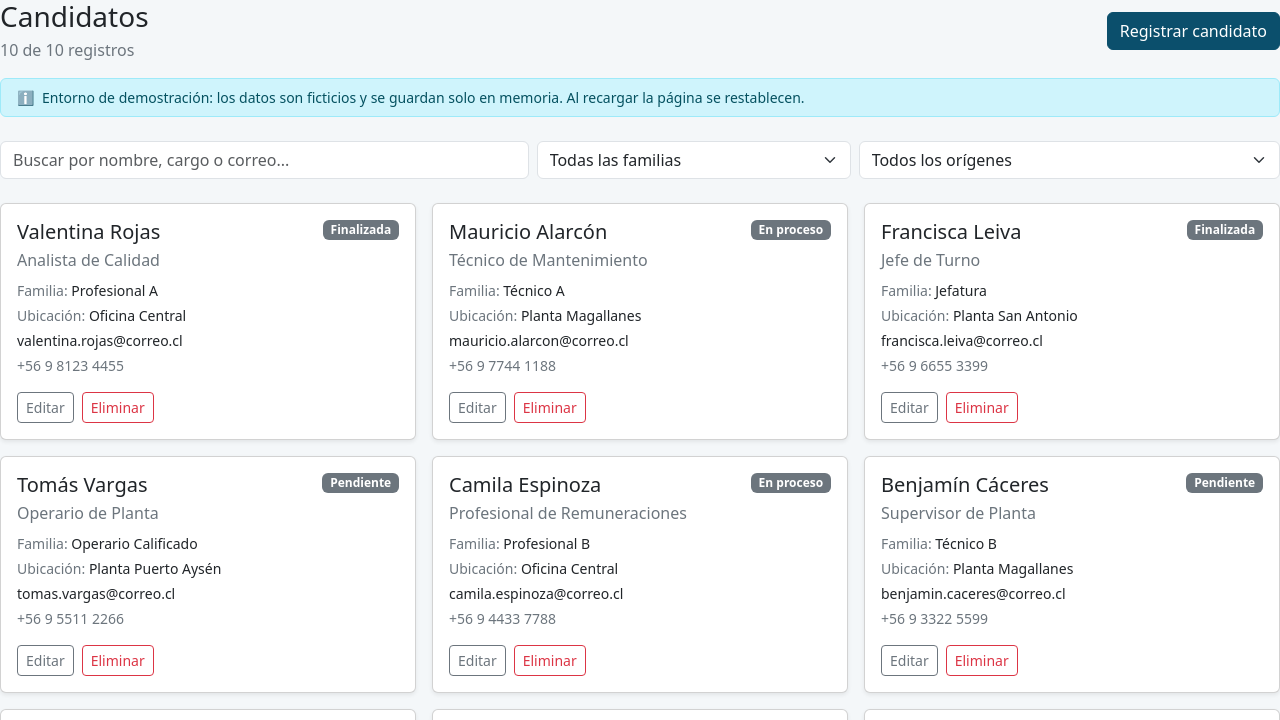
Test: CandidatosPage › filtra por origen
Select "Interno" in the 2nd dropdown named "origen" at [1069, 160], box top-left (859, 141), bottom-right (1279, 179)
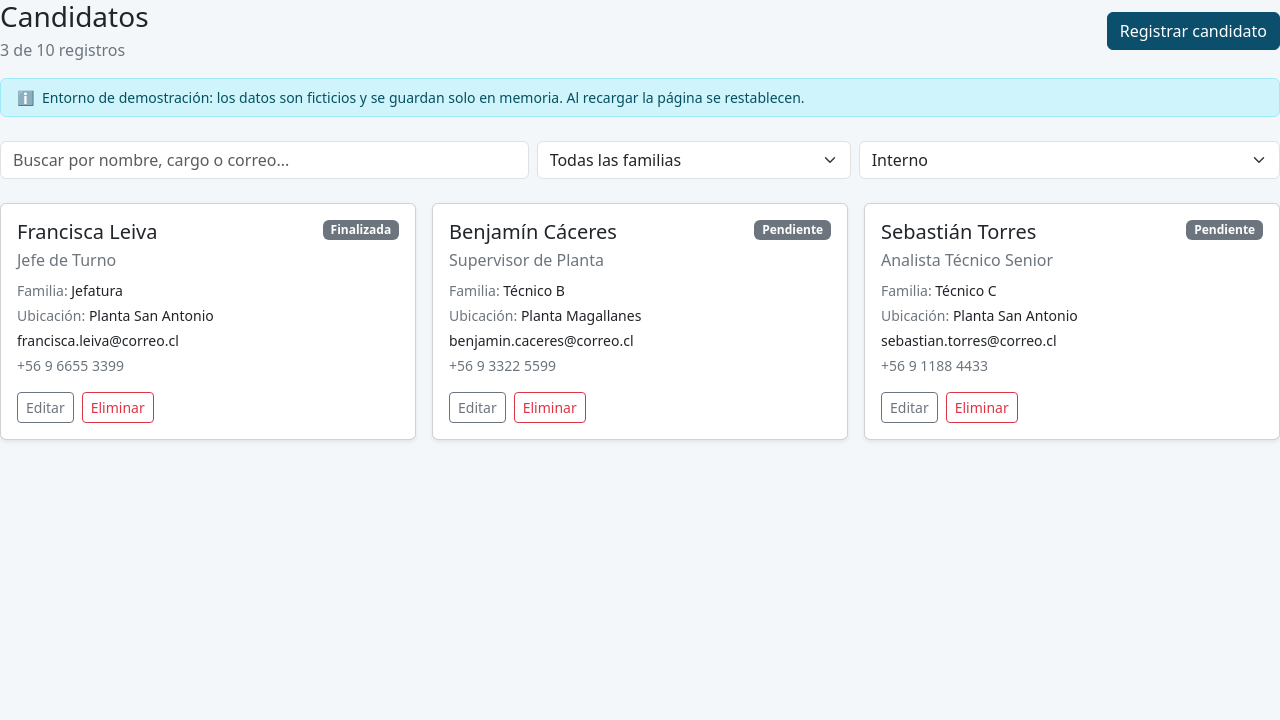
Check: the heading "Francisca Leiva" is shown, box top-left (17, 220), bottom-right (158, 244)
Check: the heading "Valentina Rojas" is gone
